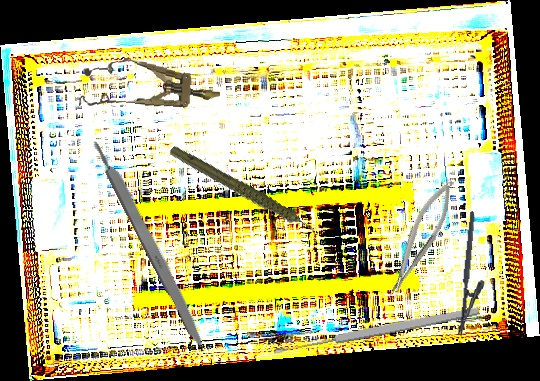Handpiece: (167, 119, 321, 267)
Needle Holder: (375, 174, 465, 304), (456, 211, 493, 338)
Scalpel Handle: (90, 136, 212, 354)
Speculum: (78, 53, 223, 122)
Surgical Spoon: (272, 305, 481, 357)
